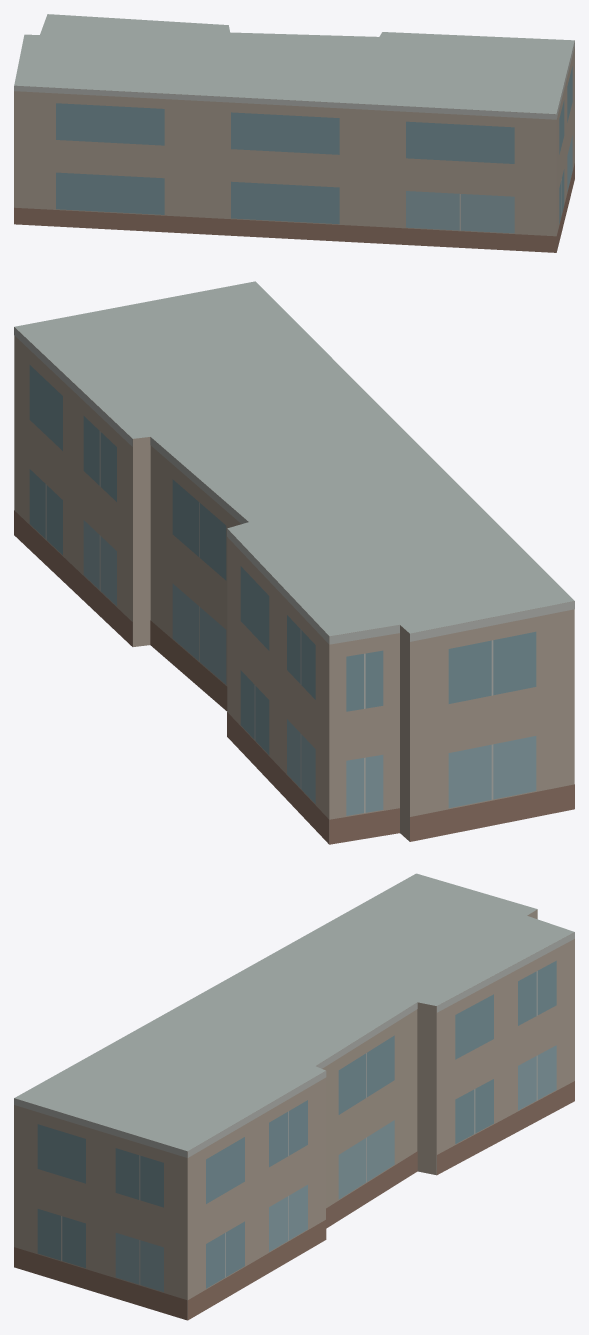
File: survey-upis-32695635.glb
The picture shows the model from 3 angles, top to bottom: view 1: azimuth 30°, elevation 25°; view 2: azimuth 150°, elevation 25°; view 3: azimuth 270°, elevation 25°; orthographic projection. The views are drawn at different scales.
Visible parts, largest first — view 1: survey-upis-32695635.tmp; view 2: survey-upis-32695635.tmp; view 3: survey-upis-32695635.tmp.
Boxes of the visible parts, x1,y1,x2,y2 form: survey-upis-32695635.tmp: (14, 14, 574, 252); survey-upis-32695635.tmp: (14, 281, 574, 844); survey-upis-32695635.tmp: (14, 873, 574, 1320).
Bounding box in the file's own units: 21.51 × 6.1 × 18.34.
